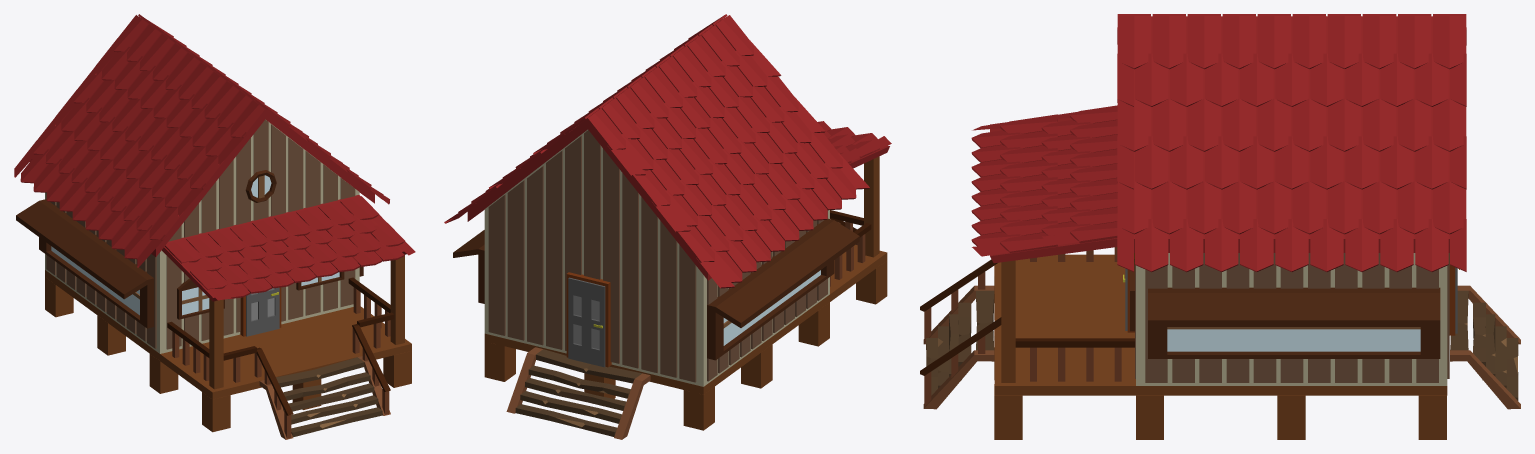
The model's file is House_02.fbx.
The picture shows the model from 3 angles, left to right: view 1: azimuth 30°, elevation 25°; view 2: azimuth 150°, elevation 25°; view 3: azimuth 270°, elevation 25°; orthographic projection. The views are drawn at different scales.
Parts seen in each view (by area): view 1: House_02_Merged; view 2: House_02_Merged; view 3: House_02_Merged.
Boxes of the visible parts, bbox=[...] form: House_02_Merged: bbox=[14, 14, 415, 439]; House_02_Merged: bbox=[444, 14, 891, 439]; House_02_Merged: bbox=[920, 14, 1520, 439].
Size of the model in its own units: 579 by 561 by 849.
